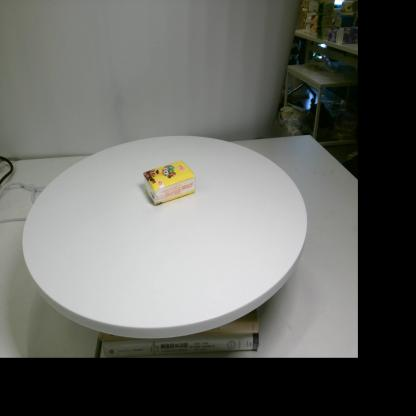Tissue: (143, 160, 196, 206)
